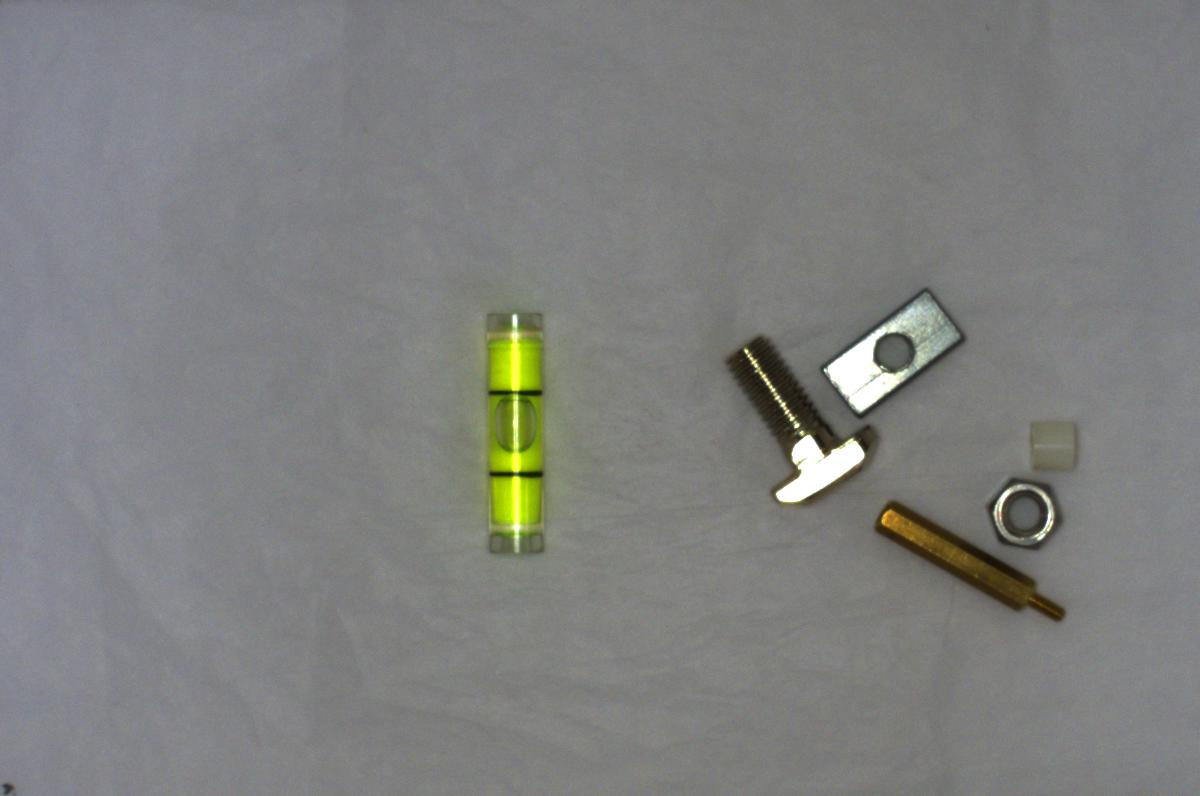Hexagon nut: (975, 467, 1066, 556)
Hexagon pillar: (866, 490, 1073, 635)
Horizontal bubble: (469, 298, 561, 560)
Plastic cushion pillar: (1019, 408, 1085, 477)
Rectangular nut: (819, 278, 982, 419)
T-shaped screw: (715, 326, 879, 508)
